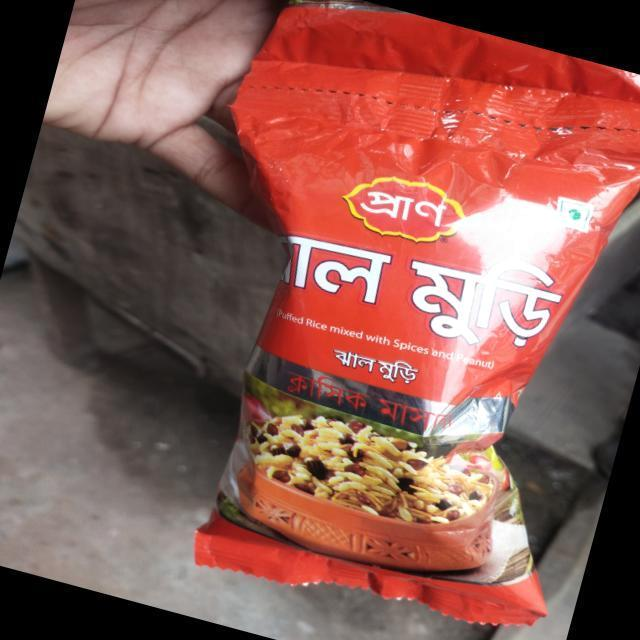packet: (147, 28, 628, 616)
